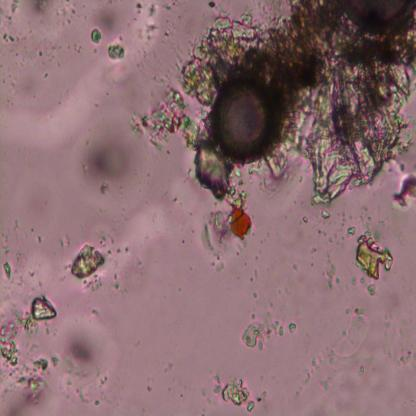Background material: (257, 0, 416, 221), (128, 11, 265, 145), (299, 303, 378, 396), (75, 121, 144, 206), (53, 315, 116, 405), (0, 317, 52, 403), (192, 135, 240, 202), (70, 235, 114, 297), (205, 366, 259, 415), (240, 308, 298, 352), (355, 233, 399, 288), (203, 208, 231, 266), (19, 294, 56, 335), (0, 214, 27, 267), (134, 0, 164, 45), (94, 5, 124, 39), (391, 172, 416, 212), (23, 0, 54, 23), (324, 252, 342, 287), (106, 39, 126, 63), (90, 25, 105, 48), (2, 258, 13, 280), (346, 224, 356, 240), (144, 378, 154, 392), (164, 362, 175, 374), (253, 267, 259, 282), (134, 340, 142, 348)
Diatom: (214, 83, 284, 160)
Fragment: (230, 203, 254, 241)
